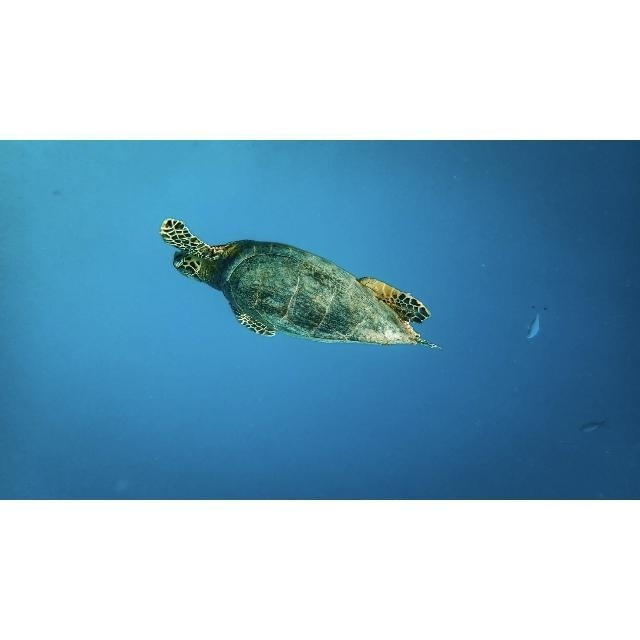turtle: (162, 217, 440, 351)
